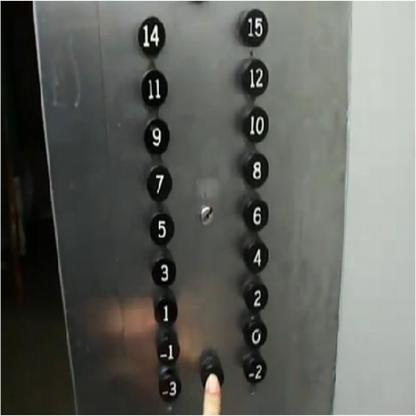-1: (153, 328, 180, 365)
-2: (242, 352, 267, 385)
-3: (156, 367, 182, 401)
0: (242, 316, 268, 350)
1: (152, 290, 178, 326)
10: (238, 104, 268, 143)
11: (139, 66, 168, 108)
12: (236, 57, 269, 98)
14: (136, 13, 166, 58)
15: (238, 7, 268, 48)
2: (240, 276, 268, 312)
3: (150, 249, 176, 287)
4: (241, 235, 269, 271)
5: (149, 210, 174, 247)
6: (242, 196, 269, 232)
7: (145, 164, 172, 202)
8: (242, 150, 269, 188)
9: (143, 115, 170, 155)
keyhole: (198, 204, 216, 226)
